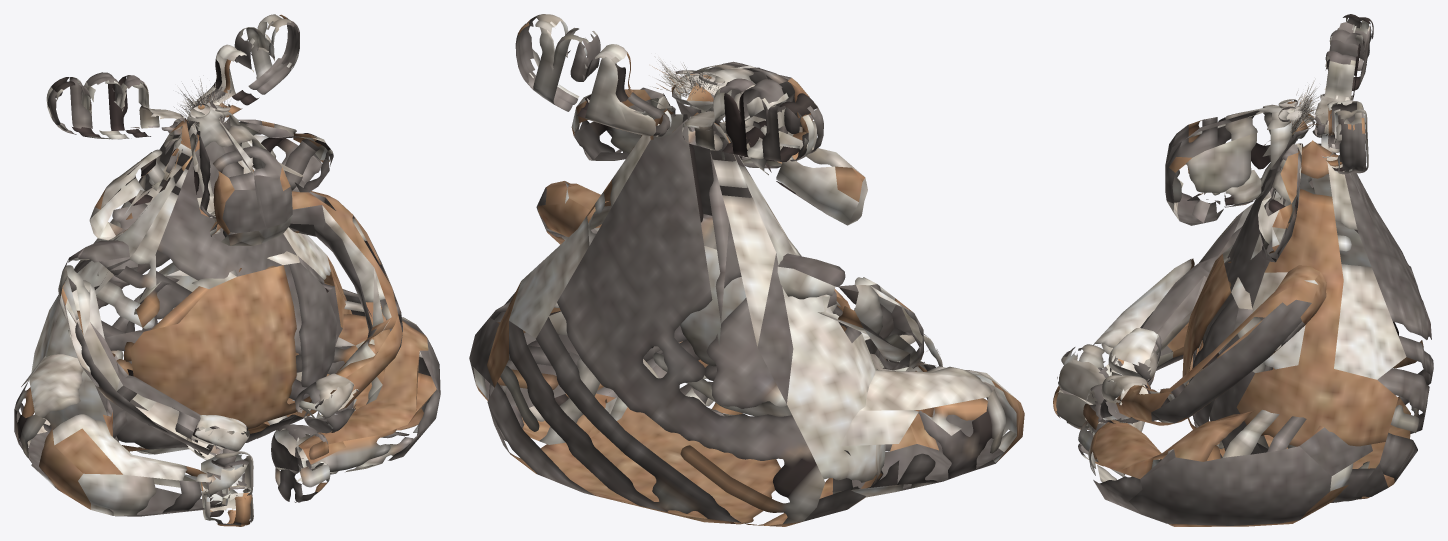
3 views of the same model, side by side, from view 1: azimuth 30°, elevation 25°; view 2: azimuth 150°, elevation 25°; view 3: azimuth 270°, elevation 25° (orthographic). The views are drawn at different scales.
Parts seen in each view (by area): view 1: solid_001, solid_005, solid_002, solid_006; view 2: solid_001, solid_002, solid_005, solid_006; view 3: solid_001, solid_002, solid_005, solid_006.
Part boxes in pixels (x1=…): solid_001: x1=14, y1=102, x2=440, y2=516; solid_005: x1=122, y1=122, x2=336, y2=442; solid_002: x1=46, y1=14, x2=359, y2=526; solid_006: x1=174, y1=76, x2=239, y2=129; solid_001: x1=469, y1=61, x2=1024, y2=526; solid_002: x1=515, y1=14, x2=942, y2=371; solid_005: x1=574, y1=93, x2=850, y2=416; solid_006: x1=649, y1=56, x2=724, y2=100; solid_001: x1=1088, y1=104, x2=1433, y2=526; solid_002: x1=1053, y1=14, x2=1373, y2=466; solid_005: x1=1167, y1=140, x2=1301, y2=449; solid_006: x1=1289, y1=78, x2=1323, y2=134.
Size of the model in its own units: 1.4 by 1.24 by 1.06.
